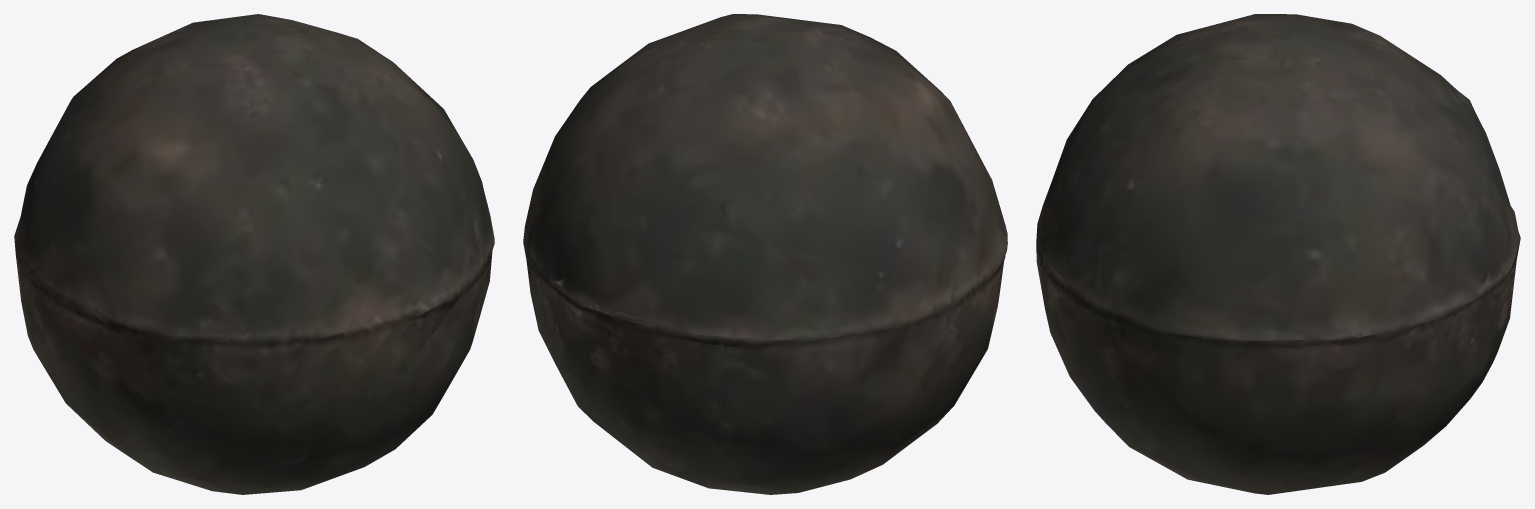
The model's file is dca2d8a4-736e-4e04-ace0-691ae325a730.glb.
3 renders of one model, left to right at view 1: azimuth 30°, elevation 25°; view 2: azimuth 150°, elevation 25°; view 3: azimuth 270°, elevation 25°, orthographic.
Parts seen in each view (by area): view 1: Mesh_0.003; view 2: Mesh_0.003; view 3: Mesh_0.003.
Boxes of the visible parts, <box> form: Mesh_0.003: <box>14,14,494,494</box>; Mesh_0.003: <box>523,14,1007,494</box>; Mesh_0.003: <box>1036,14,1520,494</box>.
Bounding box in the file's own units: 0.2489 × 0.2495 × 0.2493.
Materials: 1 (1 with a texture image).
